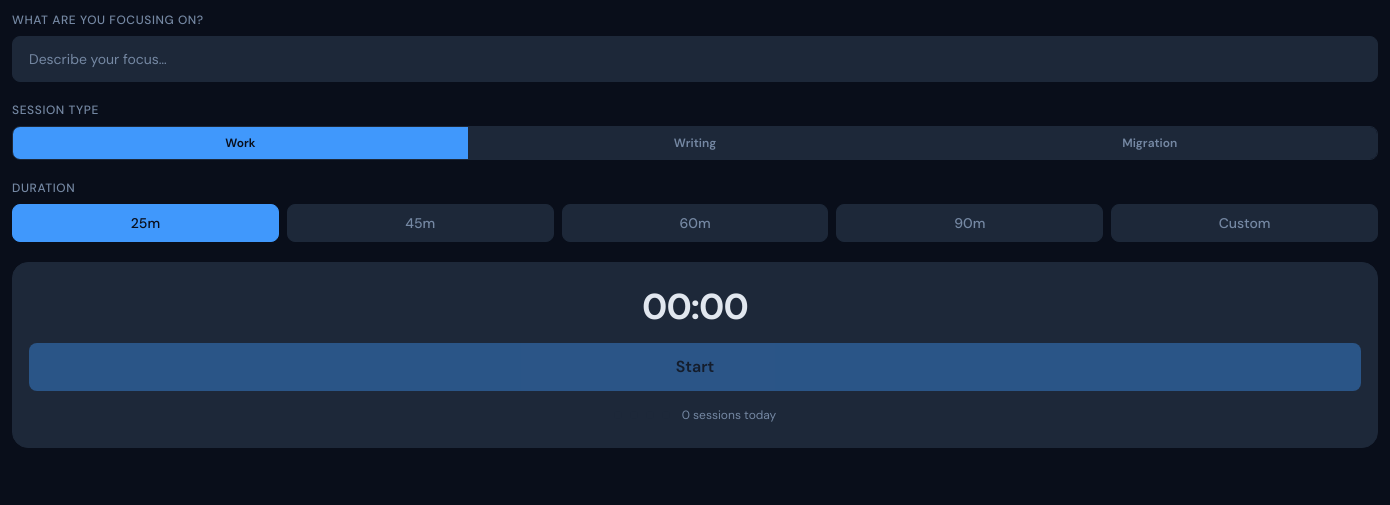
SessionPanel — starting a session › shows session error when startSession returns an error string
In the field labelled "What are you focusing on?": (695, 59) [12, 36, 1378, 82], type "Fix auth bug"
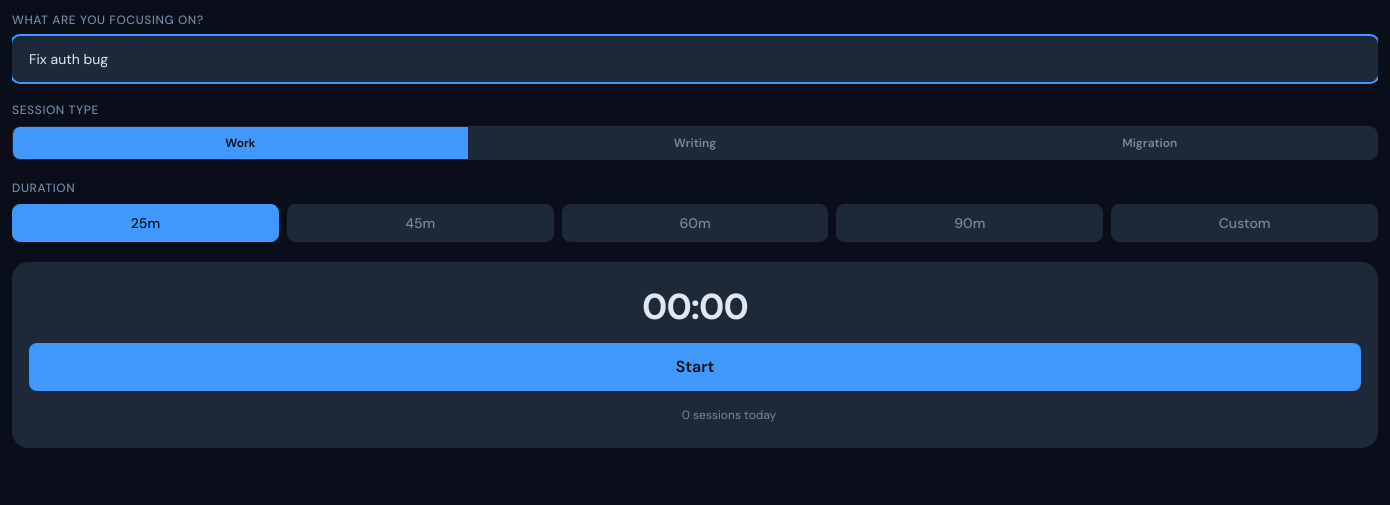
Click the button "Start": click(695, 367) [29, 343, 1361, 391]
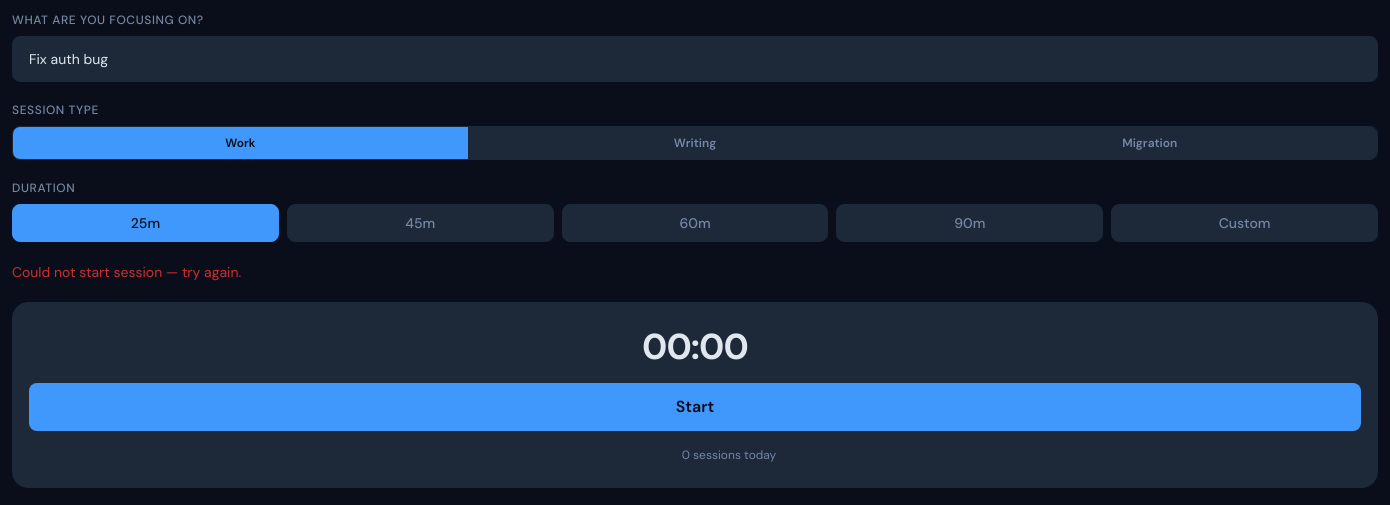
Check: the text "Could not start session — try again." is shown, box [12, 263, 241, 281]
